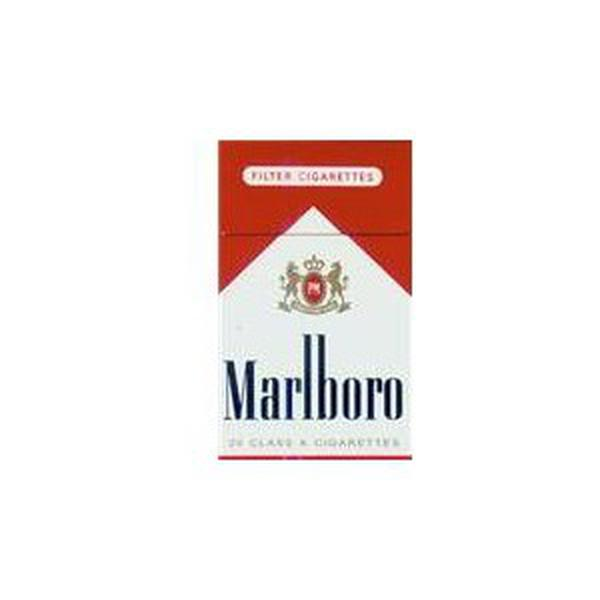marlboro_red: (218, 142, 410, 459)
